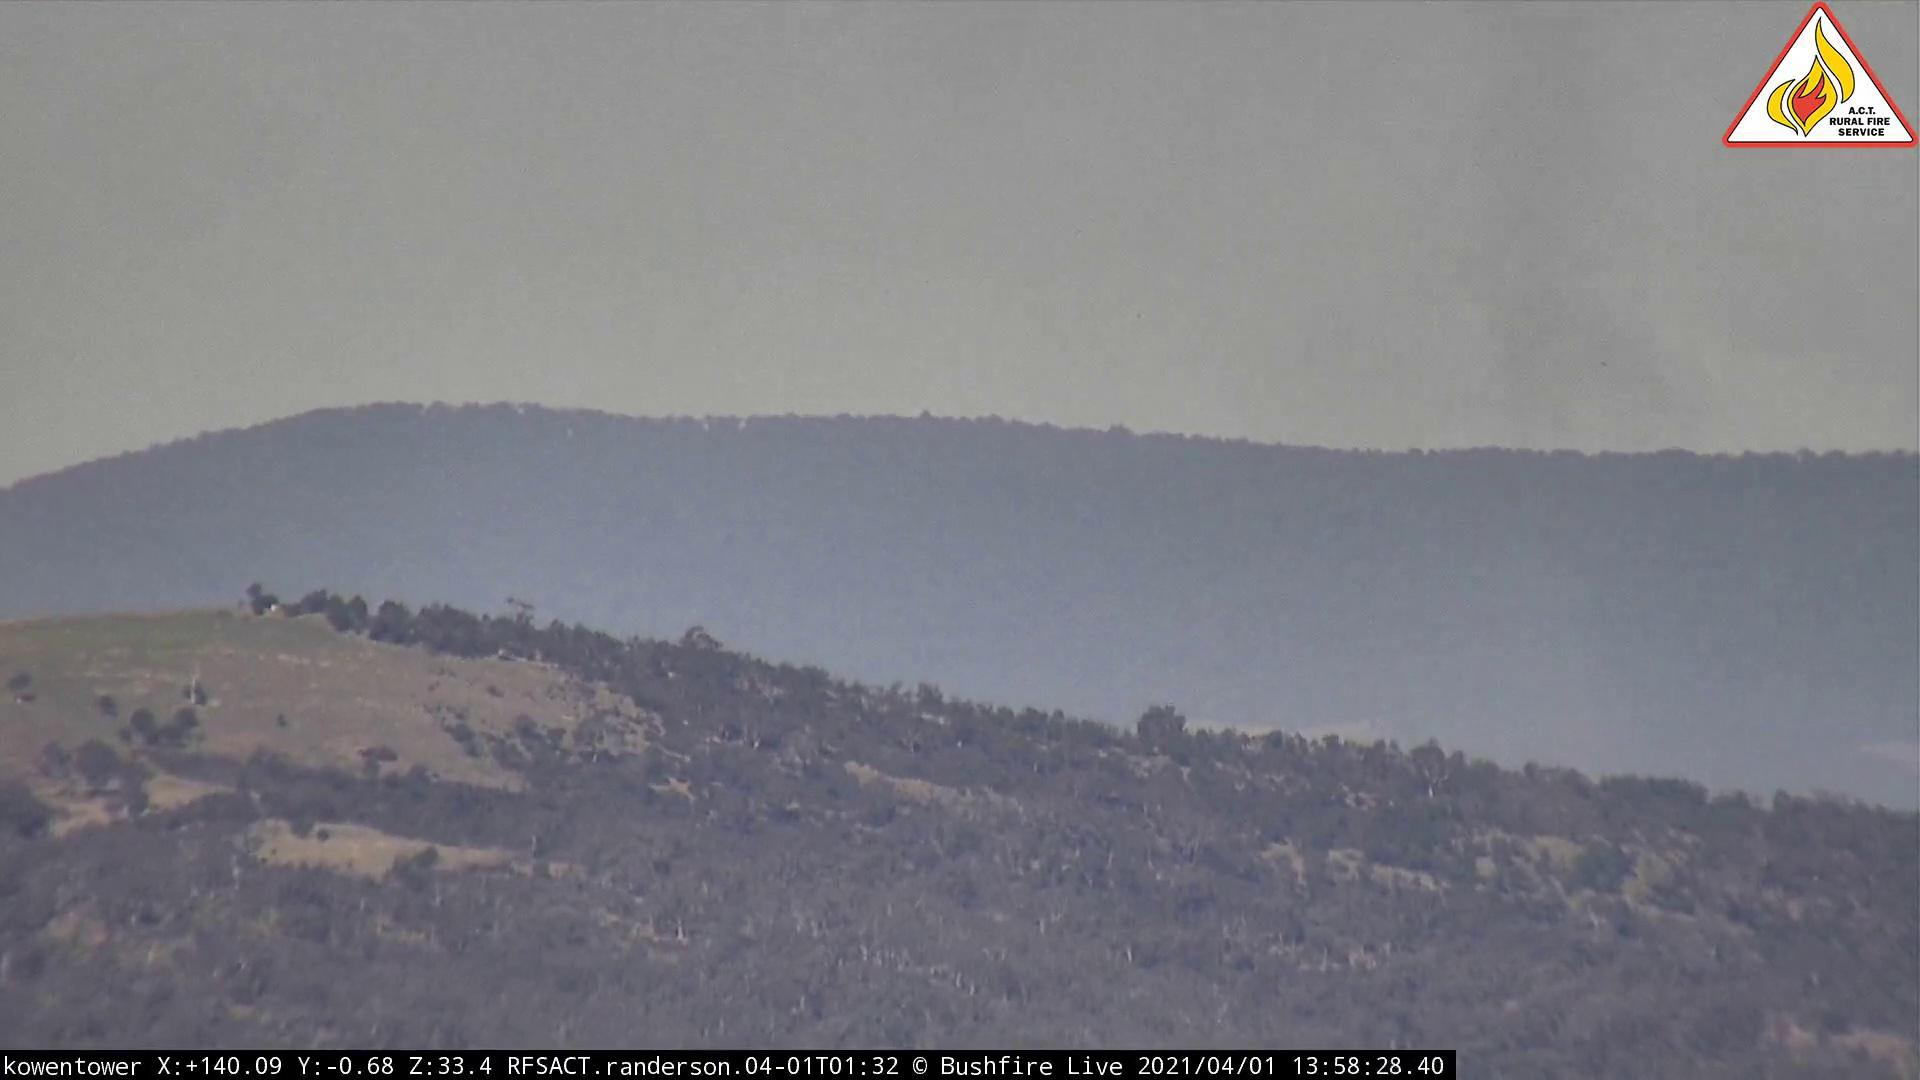Smoke: (1298, 3, 1717, 500)
